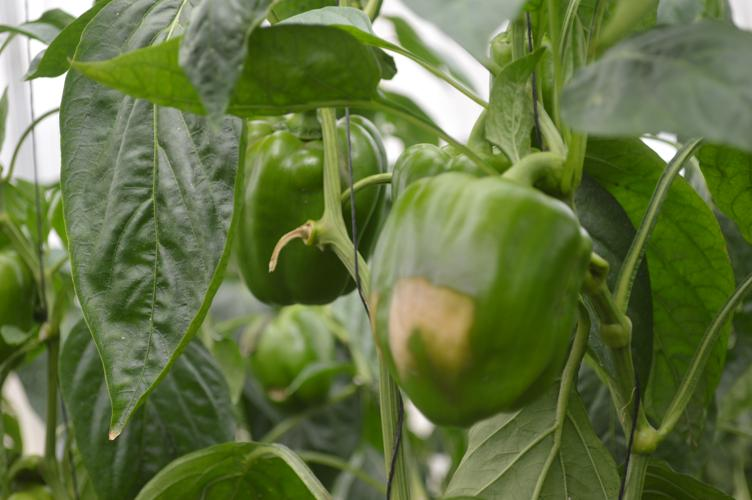BellPepper: (373, 175, 601, 427), (223, 97, 382, 314)
